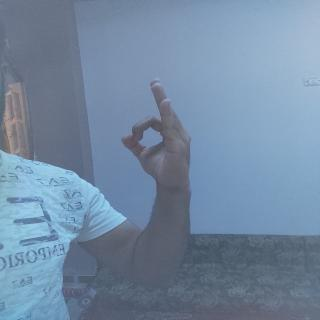Space: (119, 66, 205, 196)
